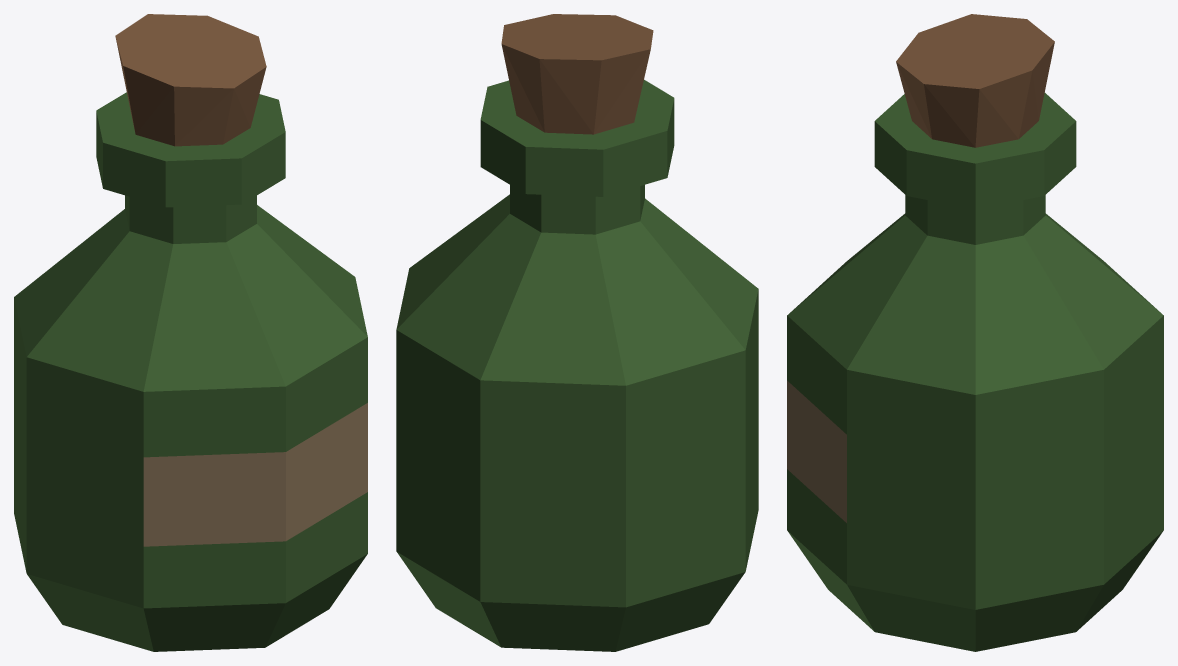
Rendered from adventure_SM_Item_Potion_06.gltf.
The picture shows the model from 3 angles, left to right: view 1: azimuth 30°, elevation 25°; view 2: azimuth 150°, elevation 25°; view 3: azimuth 270°, elevation 25°; orthographic projection. The views are drawn at different scales.
Visible parts, largest first — view 1: SM_Item_Potion_06; view 2: SM_Item_Potion_06; view 3: SM_Item_Potion_06.
Boxes of the visible parts, <box> form: SM_Item_Potion_06: <box>14,14,367,651</box>; SM_Item_Potion_06: <box>396,14,758,651</box>; SM_Item_Potion_06: <box>787,14,1163,651</box>.
Size of the model in its own units: 0.169 by 0.2706 by 0.169.
1 material, 1 textured.
